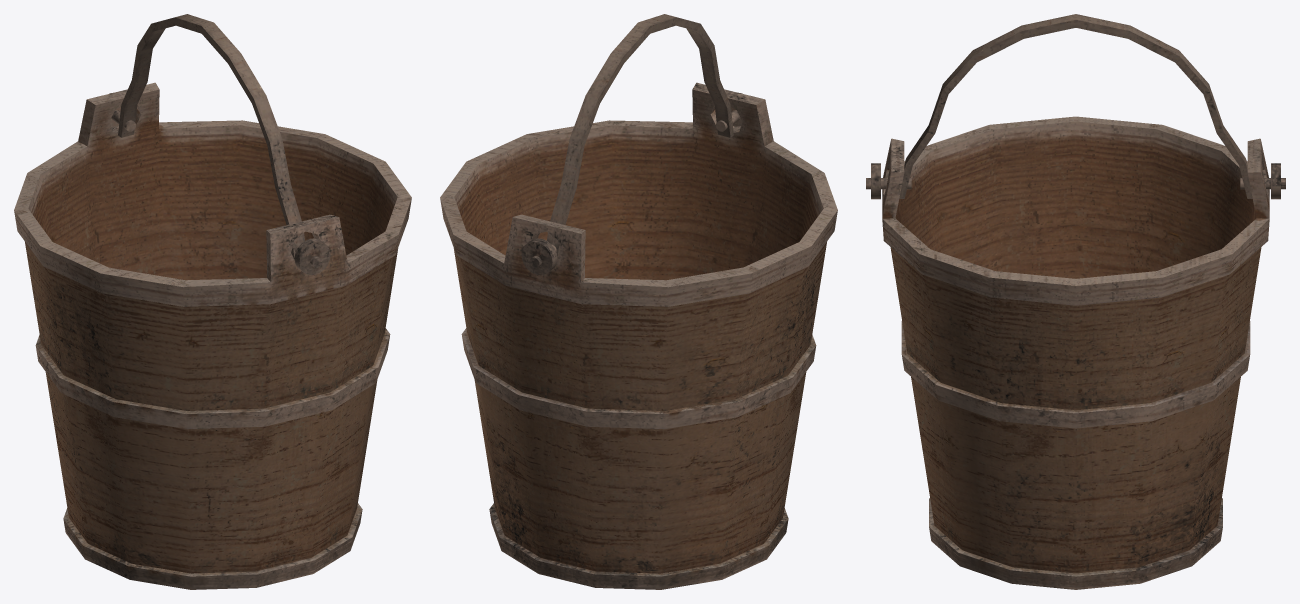
File: bucket.fbx
The picture shows the model from 3 angles, left to right: view 1: azimuth 30°, elevation 25°; view 2: azimuth 150°, elevation 25°; view 3: azimuth 270°, elevation 25°; orthographic projection.
Parts seen in each view (by area): view 1: pCylinder8, polySurface3; view 2: pCylinder8, polySurface3; view 3: pCylinder8, polySurface3.
Part boxes in pixels (x1=…): pCylinder8: x1=14, y1=82, x2=411, y2=589; polySurface3: x1=109, y1=14, x2=330, y2=275; pCylinder8: x1=440, y1=82, x2=837, y2=589; polySurface3: x1=521, y1=14, x2=742, y2=275; pCylinder8: x1=882, y1=116, x2=1269, y2=589; polySurface3: x1=866, y1=14, x2=1285, y2=199.
Size of the model in its own units: 2.14 by 2.99 by 2.24.
